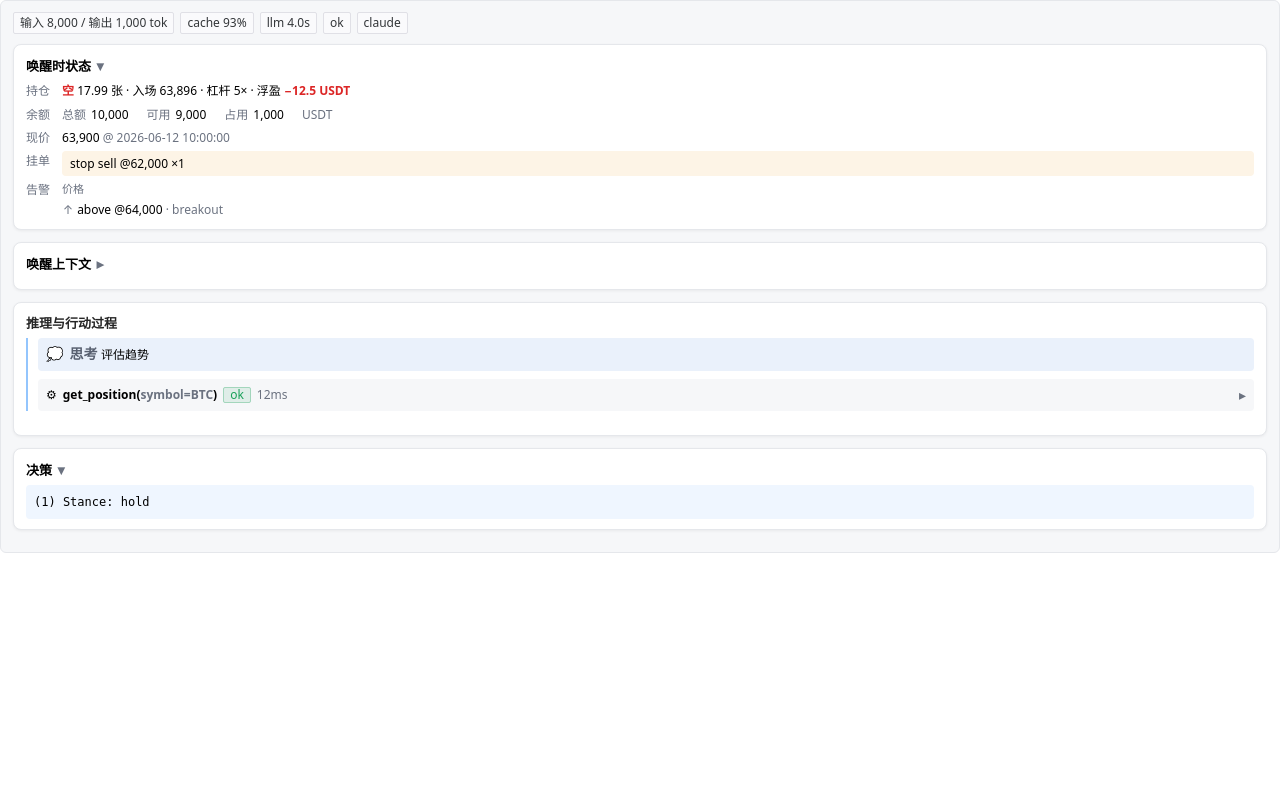
CycleDetailPanel › §A3 唤醒上下文默认折叠，点击展开原文
expect the text "Woke by scheduled tick" is not shown: met
What coordinates should you click on to do the following:
click the heading with class "context-toggle"
I would click on:
 (65, 263)
Its box is left=26, top=254, right=103, bottom=273.
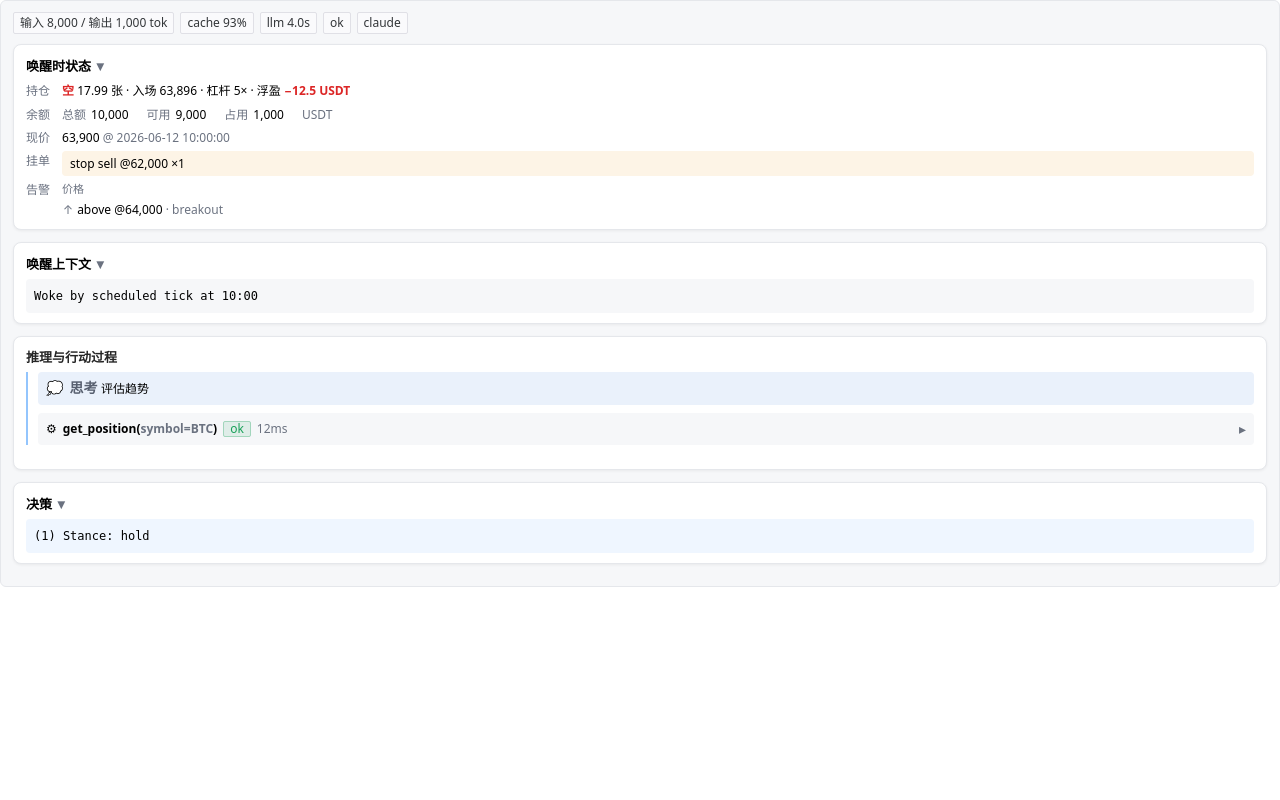
expect the text "Woke by scheduled tick" is shown: met, box left=34, top=289, right=258, bottom=303
